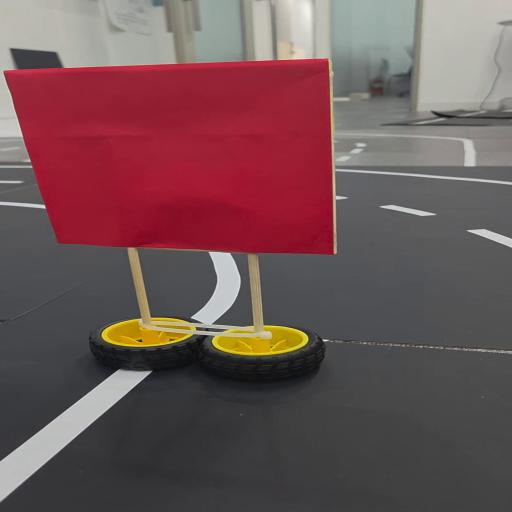Sign_A: (9, 58, 351, 380)
